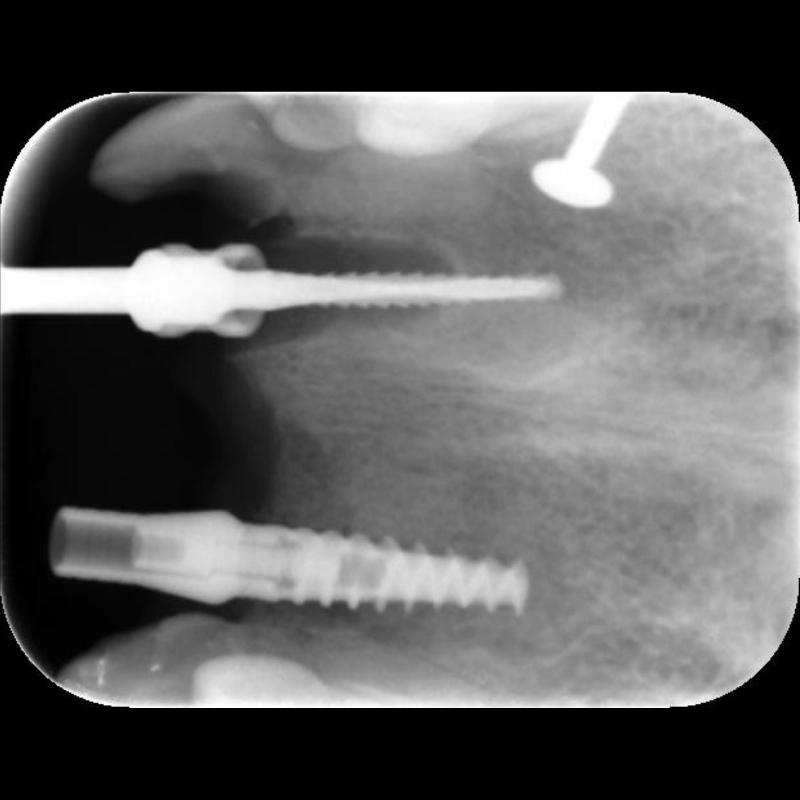ADIN: (242, 504, 546, 624)
